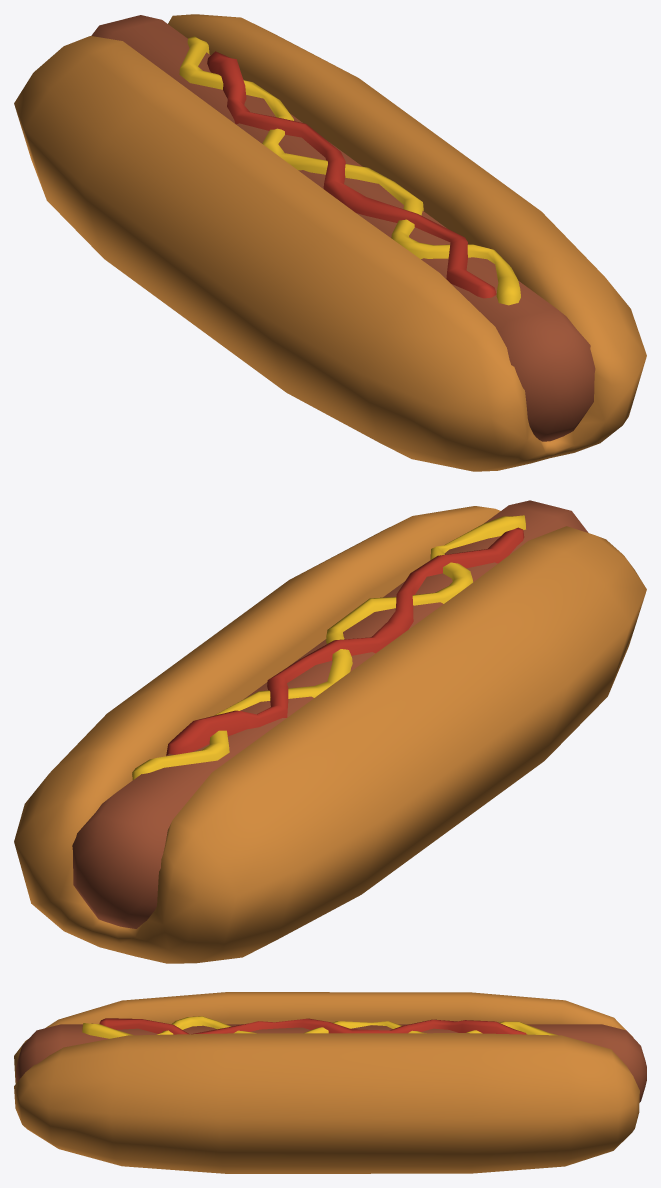
Rendered from hotdog.fbx.
3 renders of one model, top to bottom at view 1: azimuth 30°, elevation 25°; view 2: azimuth 150°, elevation 25°; view 3: azimuth 270°, elevation 25°, orthographic. The views are drawn at different scales.
Visible parts, largest first — view 1: Hotdog; view 2: Hotdog; view 3: Hotdog.
Boxes of the visible parts, <box> form: Hotdog: <box>14,14,646,471</box>; Hotdog: <box>14,500,646,963</box>; Hotdog: <box>14,992,646,1173</box>.
Bounding box in the file's own units: 142 × 92.4 × 375.
